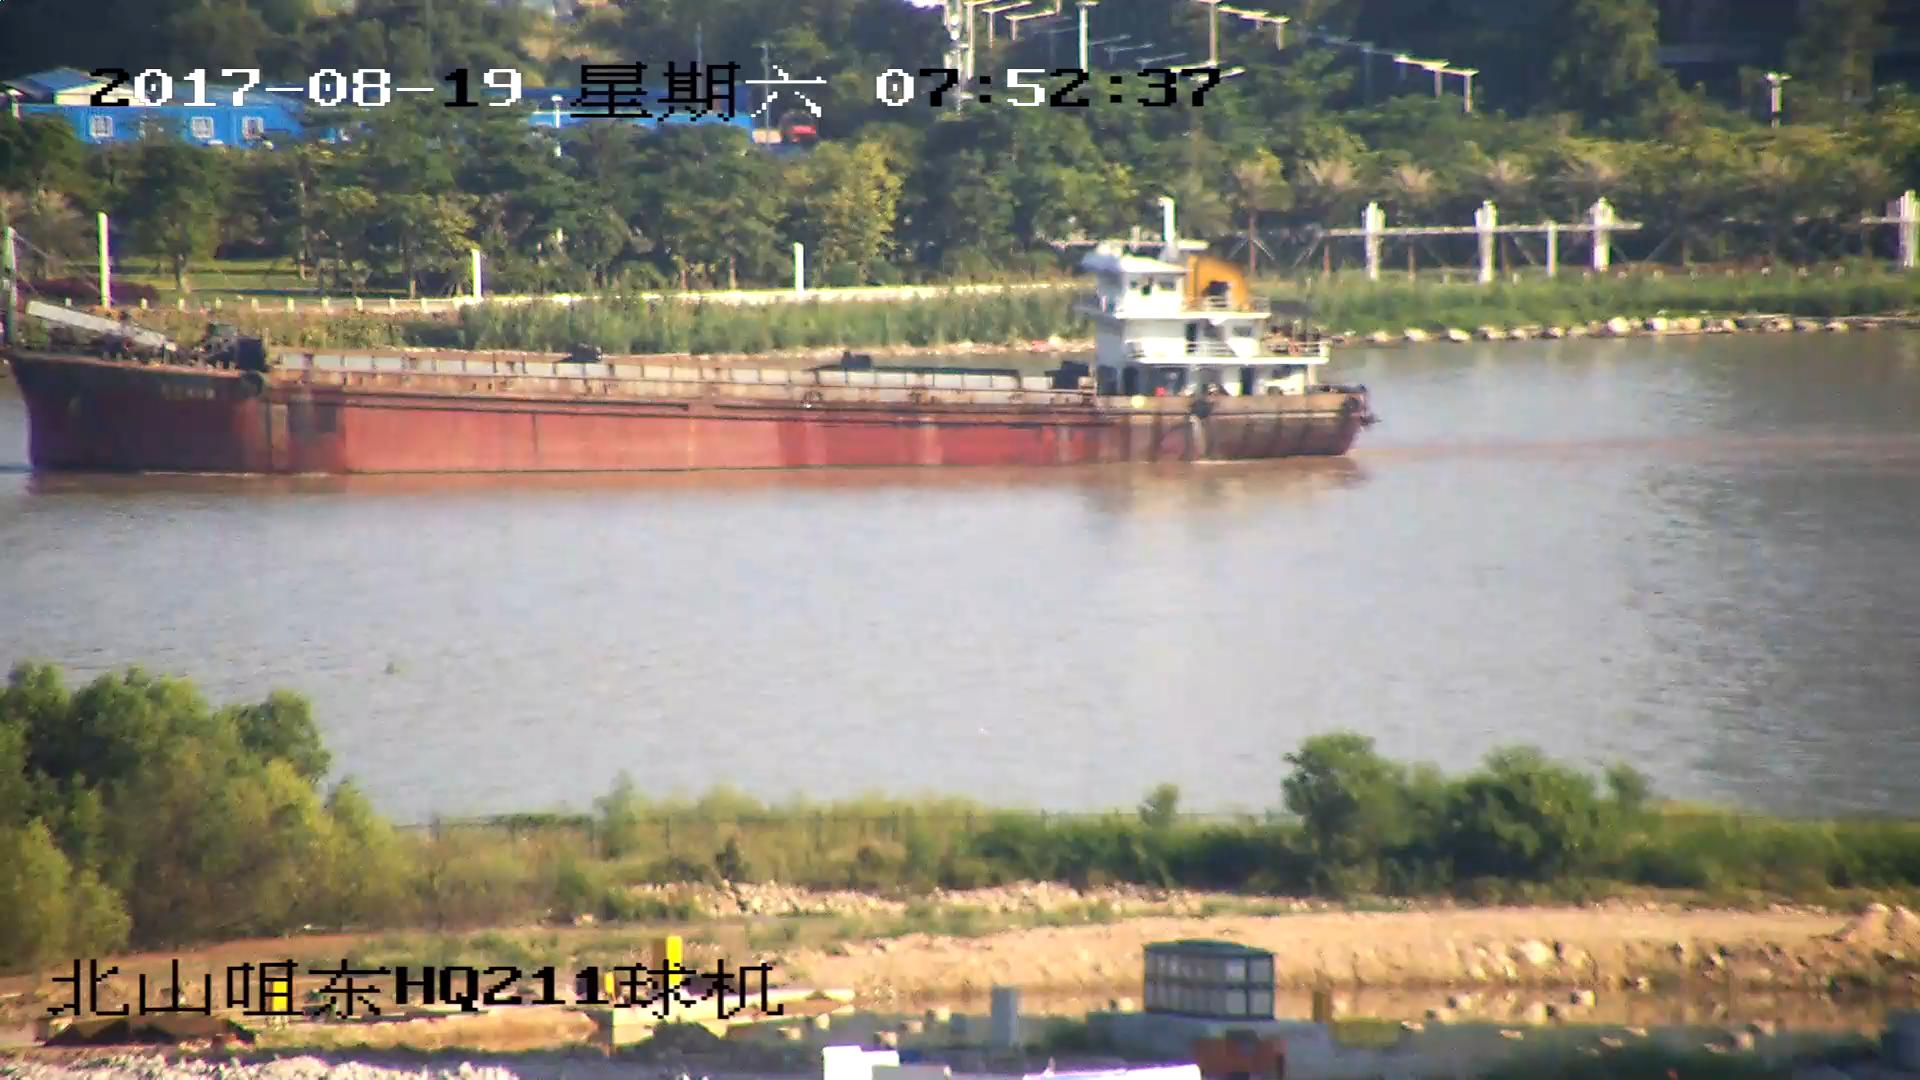bulk cargo carrier: (1, 232, 1366, 476)
